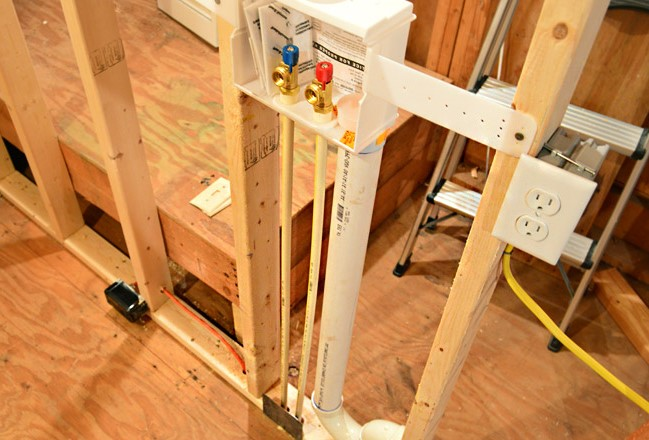outlet: (531, 188, 553, 214), (522, 216, 542, 238)
